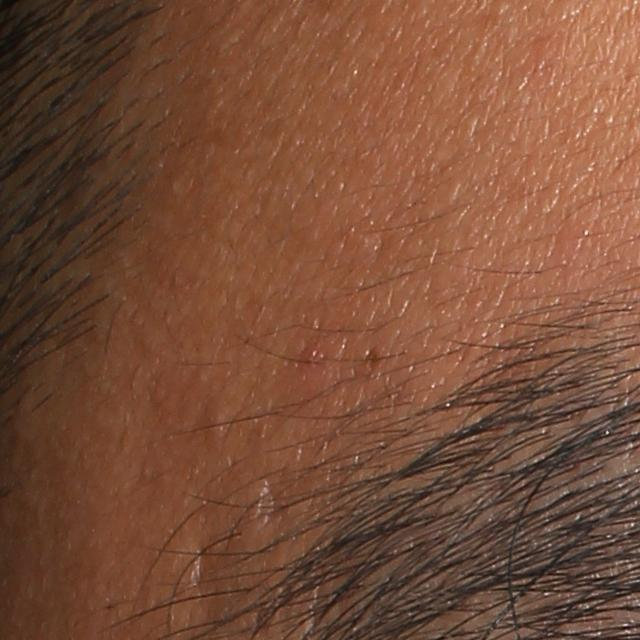comedo: (208, 403, 231, 439)
